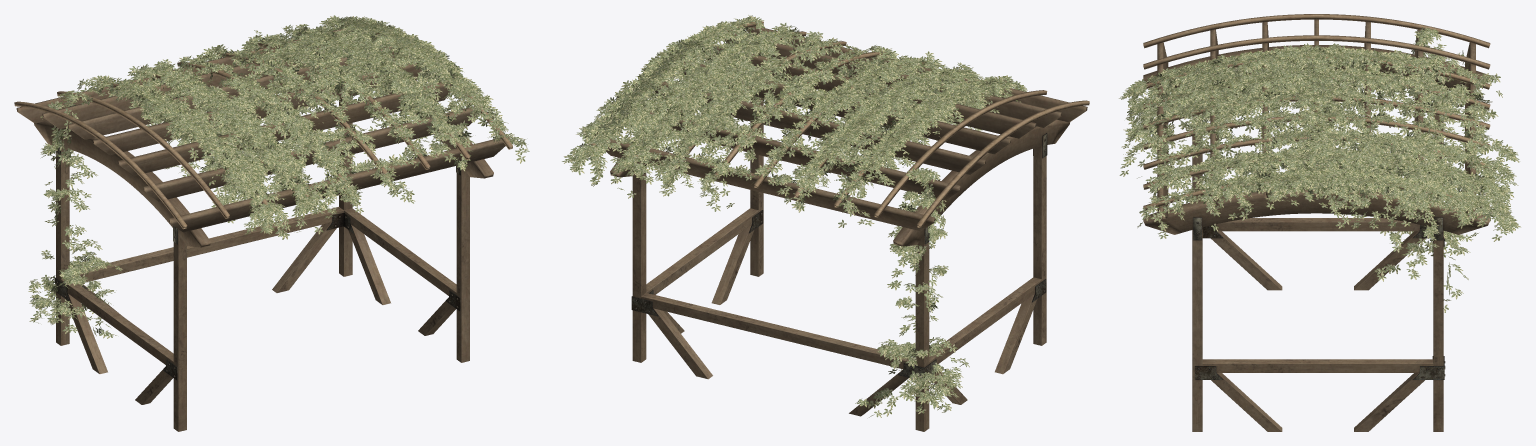
The model's file is Trellis2.fbx.
3 views of the same model, side by side, from view 1: azimuth 30°, elevation 25°; view 2: azimuth 150°, elevation 25°; view 3: azimuth 270°, elevation 25° (orthographic). The views are drawn at different scales.
Visible parts, largest first — view 1: TrellisVines.Shape, Trellis.Shape; view 2: TrellisVines.Shape, Trellis.Shape; view 3: TrellisVines.Shape, Trellis.Shape.
Part boxes in pixels (x1=…): TrellisVines.Shape: x1=28, y1=15, x2=529, y2=338; Trellis.Shape: x1=14, y1=29, x2=512, y2=431; TrellisVines.Shape: x1=562, y1=15, x2=1027, y2=417; Trellis.Shape: x1=591, y1=21, x2=1089, y2=431; TrellisVines.Shape: x1=1119, y1=27, x2=1520, y2=312; Trellis.Shape: x1=1143, y1=14, x2=1490, y2=431.
Bounding box in the file's own units: 398 × 270 × 365.
Materials: 7 (7 with a texture image).
